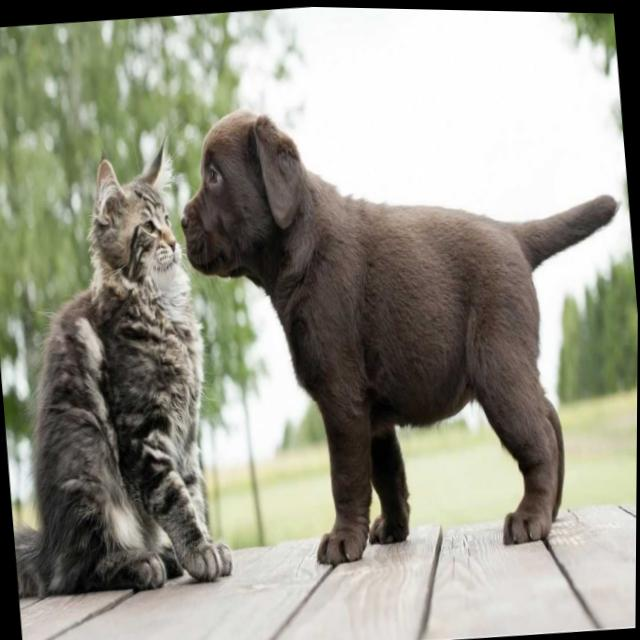Cat: (19, 154, 209, 580)
Dog: (170, 72, 640, 569)
